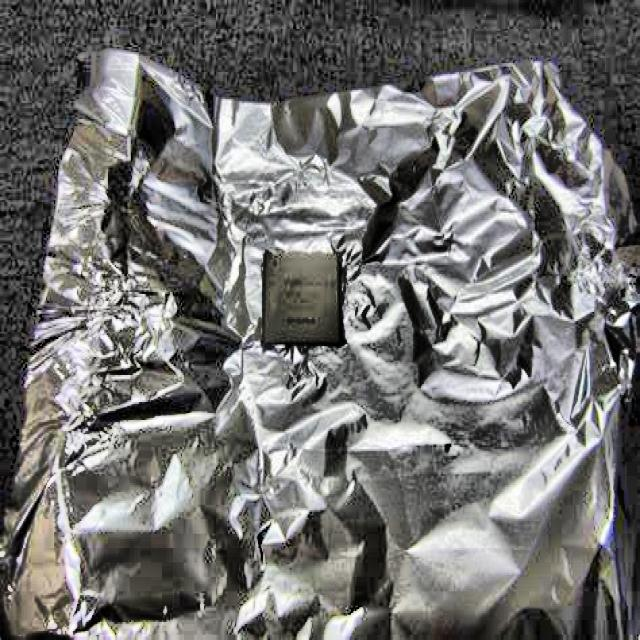Foil: (0, 38, 640, 640)
